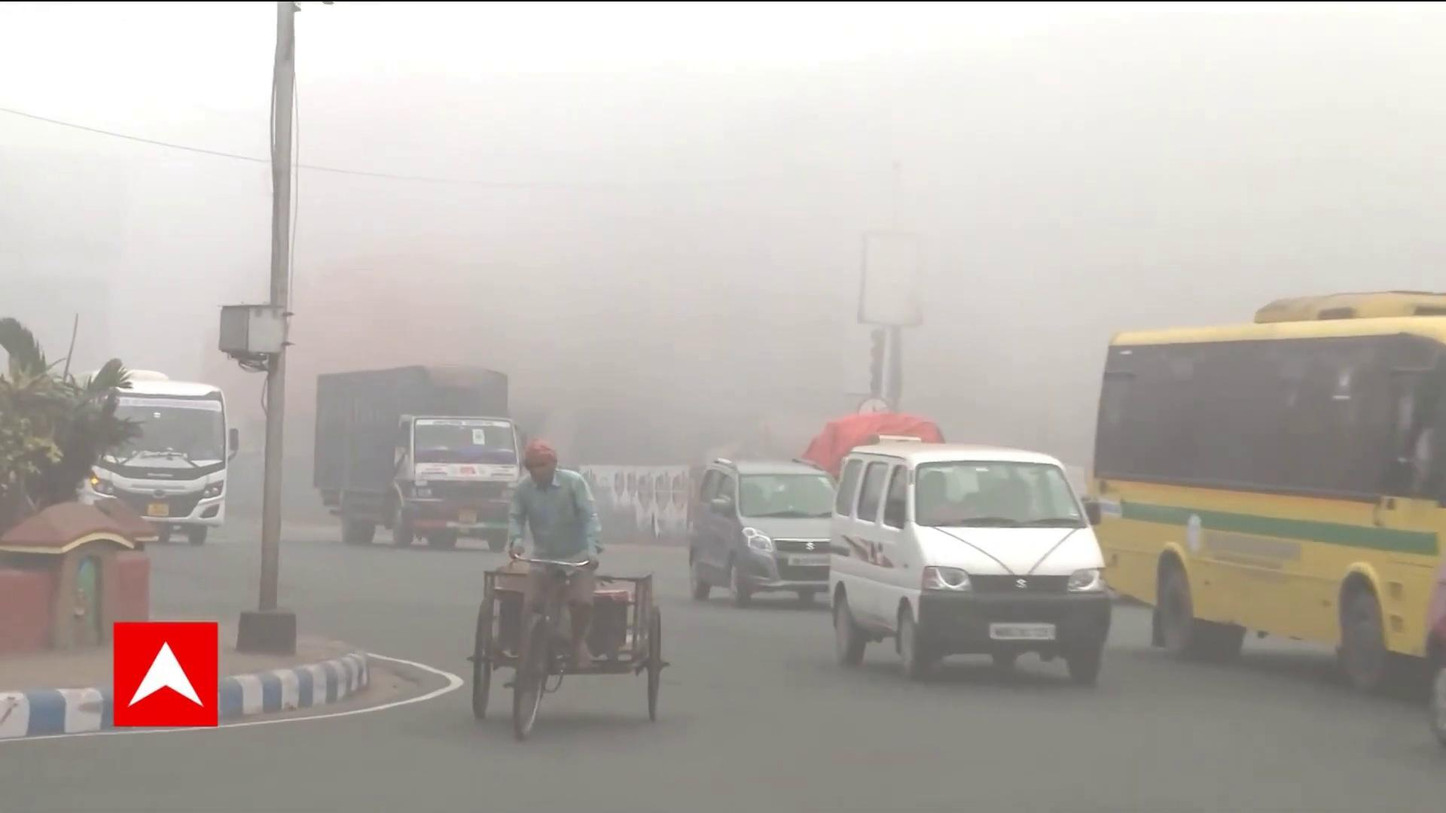Bus: (1084, 281, 1446, 685)
Car: (820, 436, 1119, 686), (682, 443, 827, 608)
Truck: (309, 356, 532, 554), (75, 367, 239, 549)
